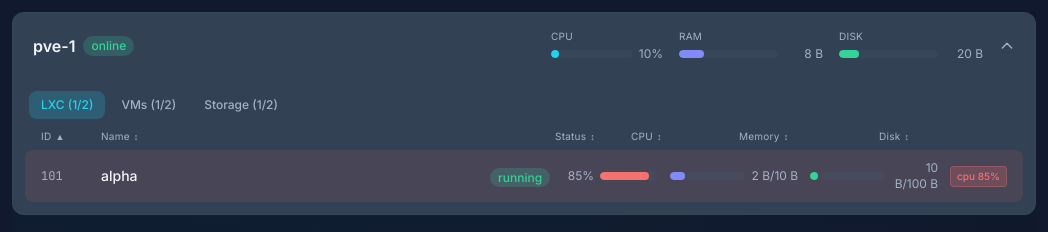
Test: NodeCard breach-only mode › hides non-breaching guests and storage in breach-only mode
Expected: the row "101 alpha running 85% 2 B/10 B 10 B/100 B cpu 85%" is shown, [25,150,1023,202]
Click the tab "Storage (1/2)" at [241, 105], box [192,91,290,119]
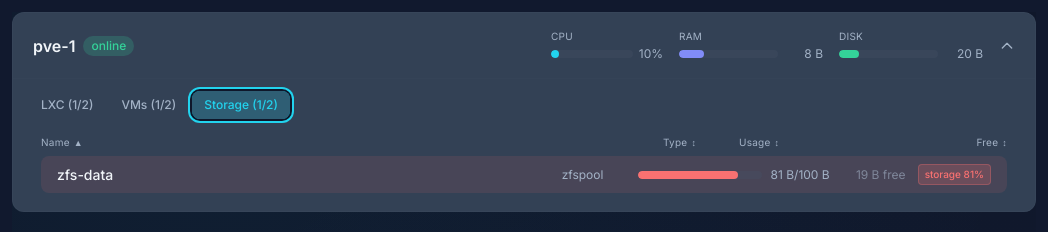
Expected: the row "zfs-data zfspool 81 B/100 B 19 B free storage 81%" is shown, [41,156,1007,193]
